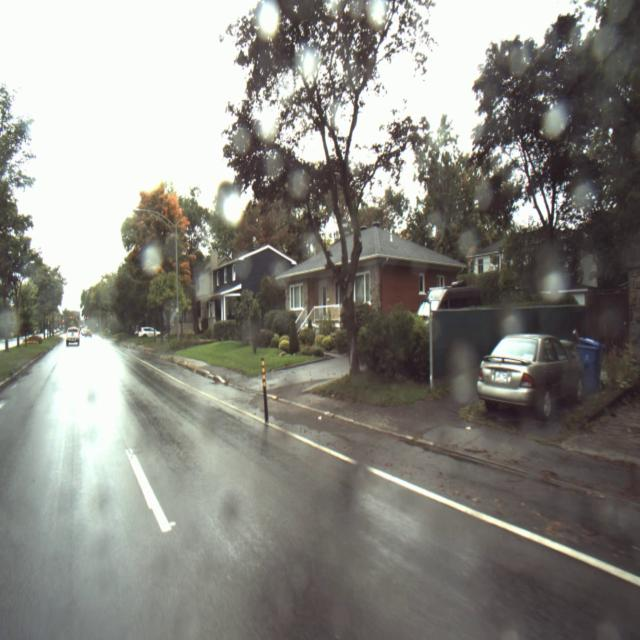car: (476, 333, 585, 423), (64, 326, 82, 346), (137, 326, 161, 340)
